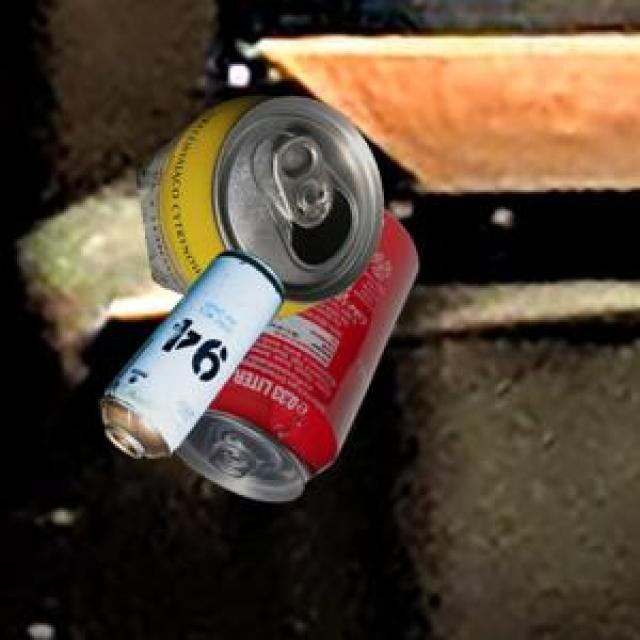Can: (172, 208, 415, 498), (133, 93, 381, 315), (97, 249, 281, 453)
